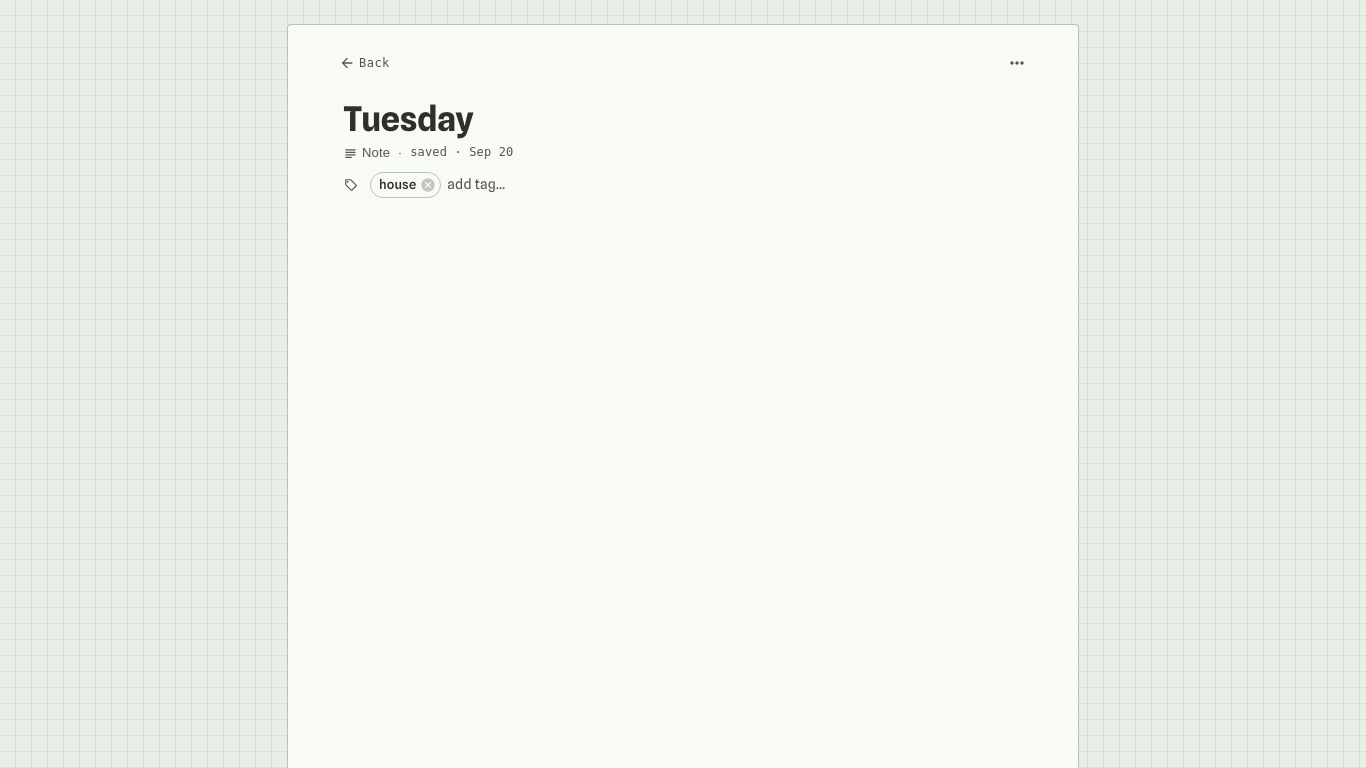
it: composing it › Compose on an ordinary note still offers Replace
Click the button named "More note actions" at [1017, 63], box x1=1001 y1=47 x2=1033 y2=79
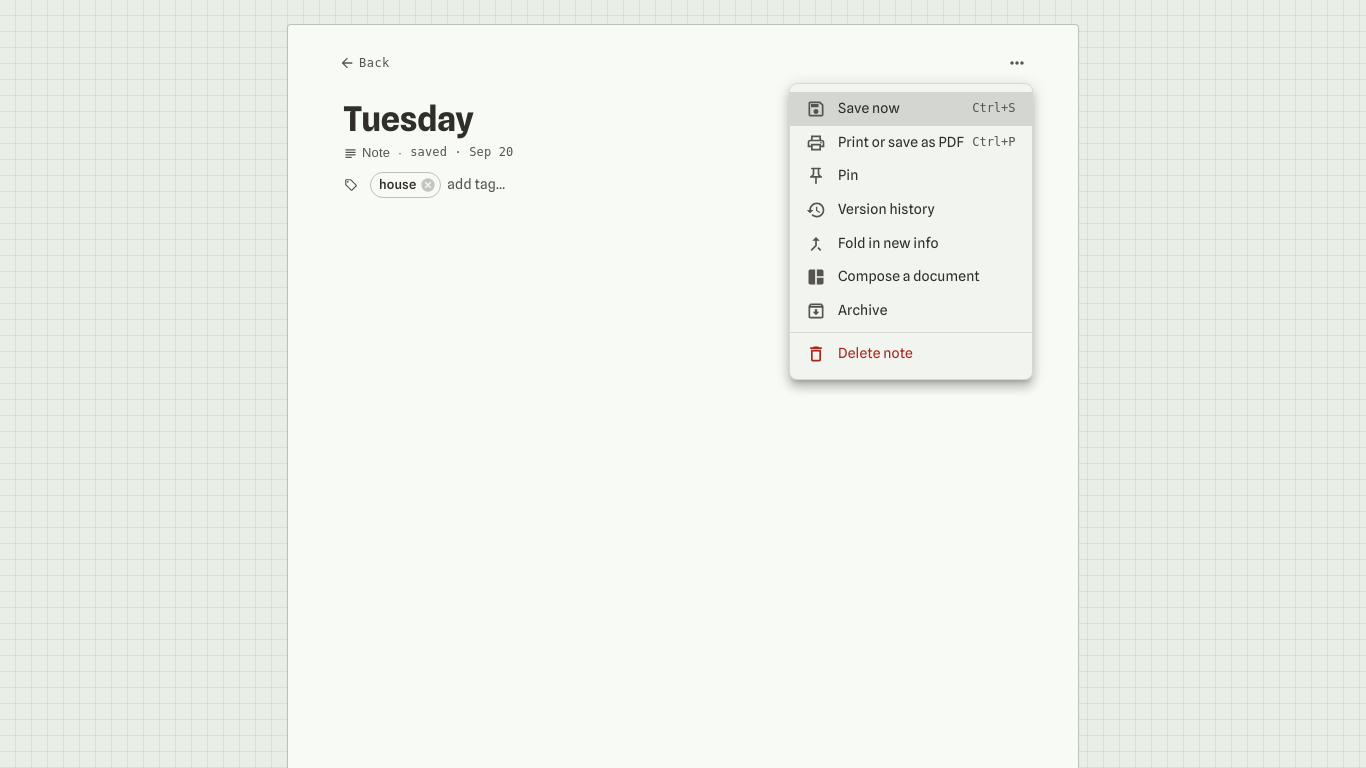
Click the menu item with aria-label "Compose a document from this note" at [893, 277], box x1=806 y1=267 x2=980 y2=287
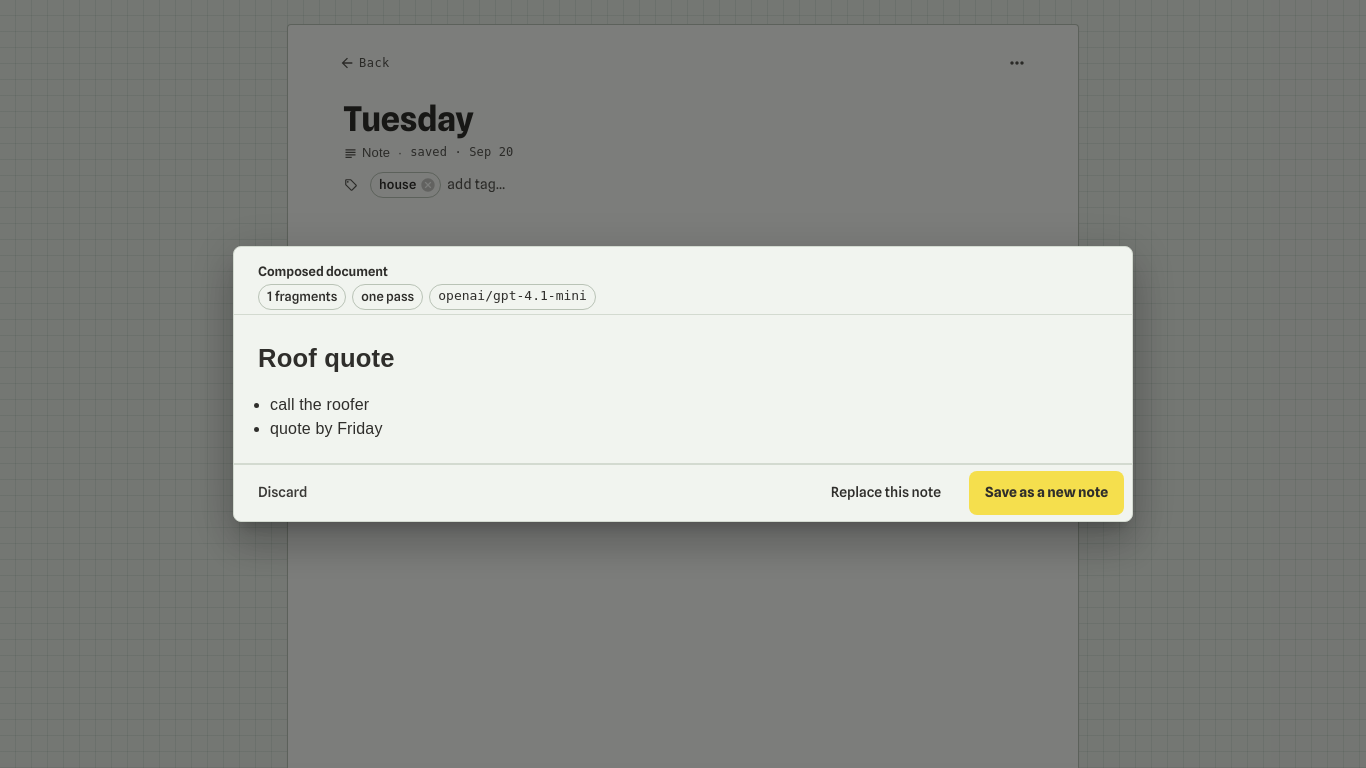
Result: the button "Save as a new note" is shown at x1=969 y1=471 x2=1124 y2=515
Result: the button "Replace this note" is shown at x1=815 y1=471 x2=957 y2=515
